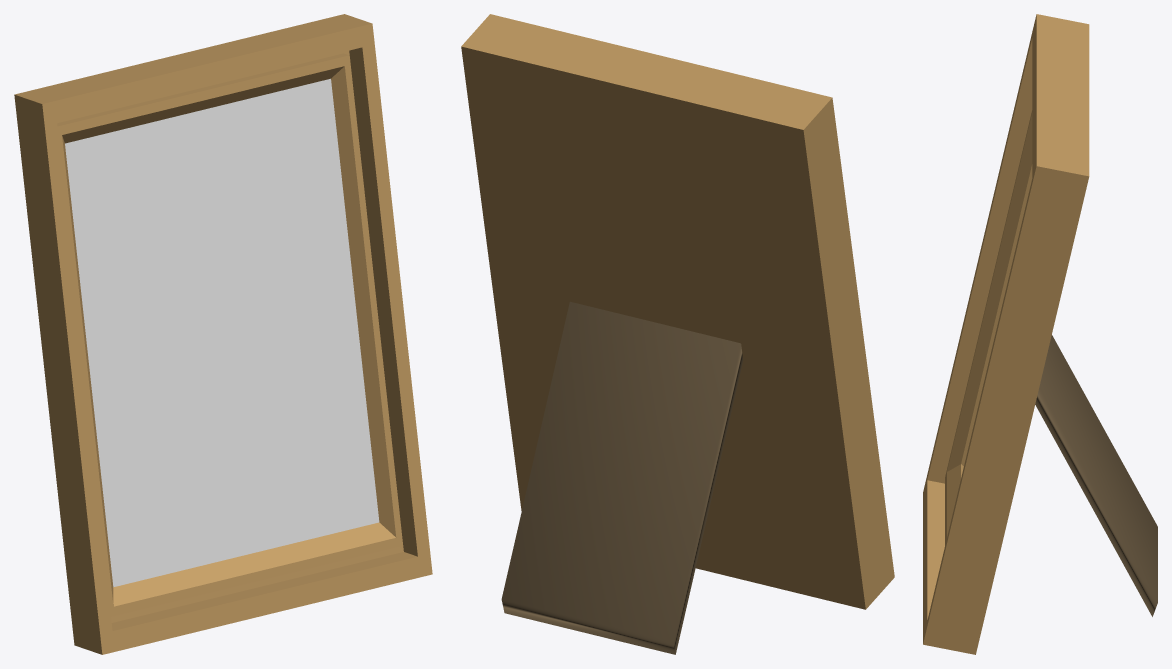
File: marco.fbx
3 views of the same model, side by side, from view 1: azimuth 30°, elevation 25°; view 2: azimuth 150°, elevation 25°; view 3: azimuth 270°, elevation 25° (orthographic). The views are drawn at different scales.
Visible parts, largest first — view 1: Cubo; view 2: Cubo, Cubo.001; view 3: Cubo, Cubo.001.
Part boxes in pixels (box(x1,y1,x2,y2)): Cubo: box(14, 14, 432, 654); Cubo: box(461, 14, 894, 609); Cubo.001: box(501, 301, 743, 654); Cubo: box(923, 14, 1089, 654); Cubo.001: box(1035, 335, 1157, 616).
Size of the model in its own units: 200 by 300 by 130.
